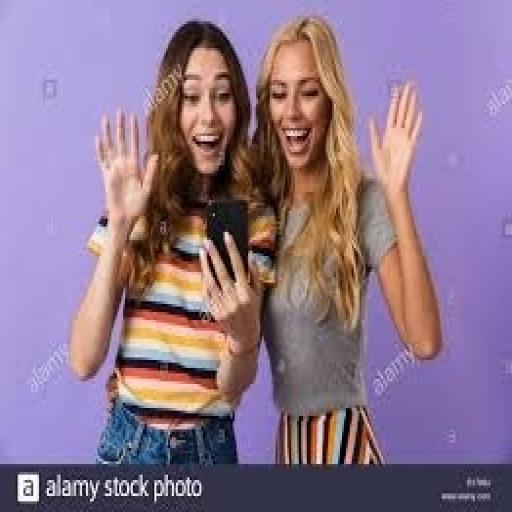calling: (66, 16, 274, 467), (248, 13, 446, 467)
